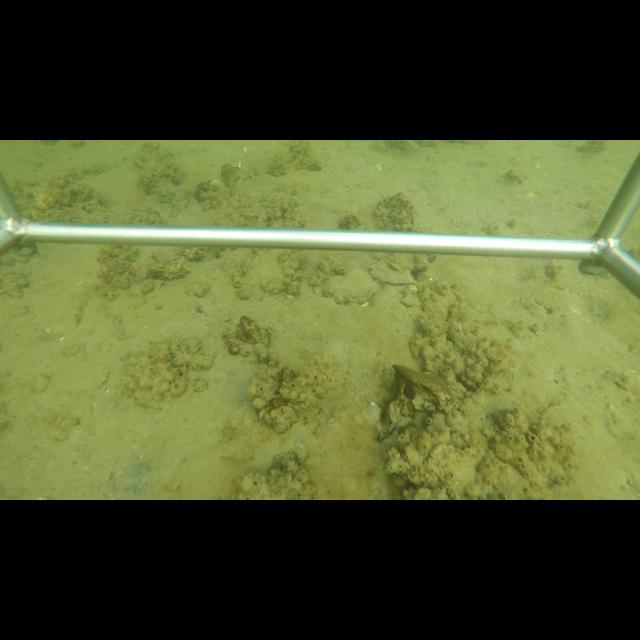Oyster-Closed: (421, 441, 476, 493), (321, 268, 382, 306), (370, 262, 416, 287), (142, 260, 193, 281), (382, 419, 403, 442)
